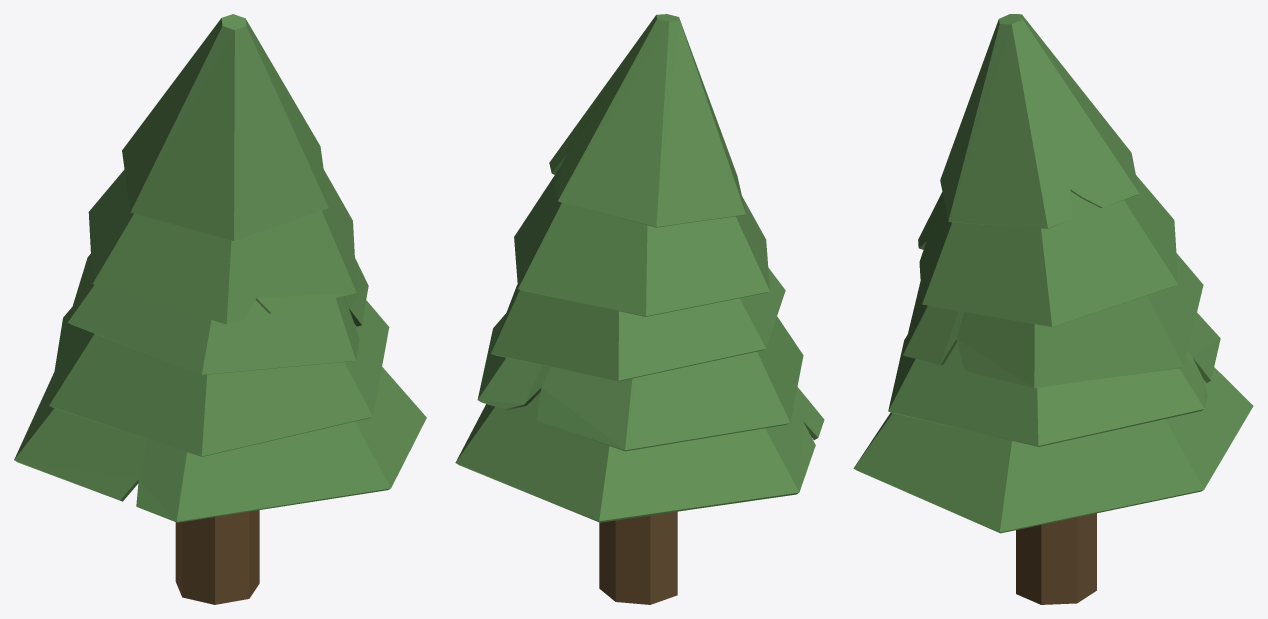
File: Sapin_01.fbx
3 renders of one model, left to right at view 1: azimuth 30°, elevation 25°; view 2: azimuth 150°, elevation 25°; view 3: azimuth 270°, elevation 25°, orthographic. The views are drawn at different scales.
Visible parts, largest first — view 1: Sapin_01; view 2: Sapin_01; view 3: Sapin_01.
Boxes of the visible parts, x1,y1,x2,y2 form: Sapin_01: [14, 14, 426, 604]; Sapin_01: [455, 14, 824, 604]; Sapin_01: [853, 14, 1253, 604].
Size of the model in its own units: 366 by 559 by 356.
Materials: 1 (1 with a texture image).
